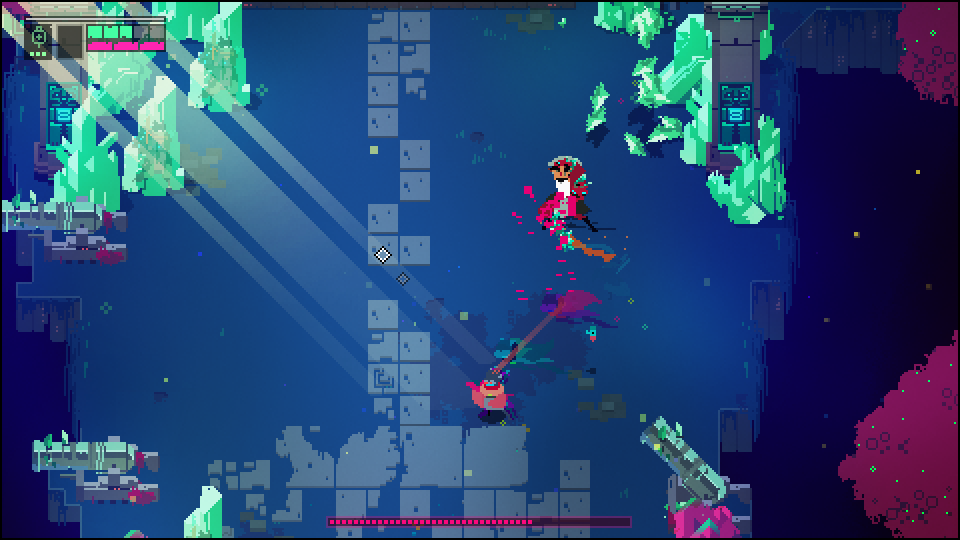hanged_man: (540, 156, 599, 243)
player: (461, 368, 517, 422)
